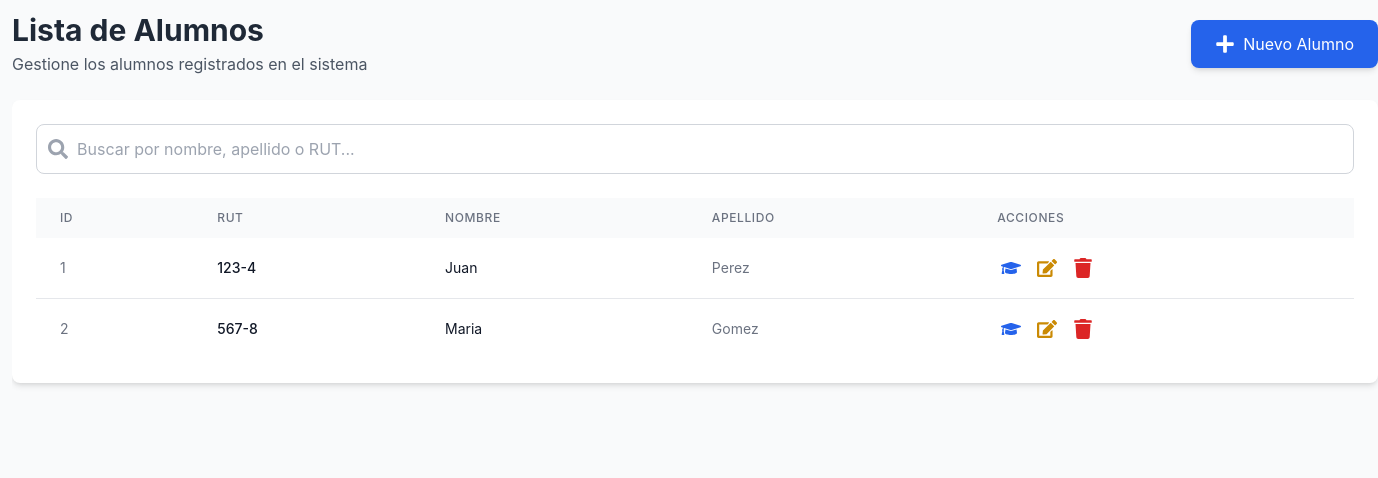
Scenario: AlumnoList › debe mostrar error si falla la eliminación
Expected: the text "Juan" is shown, 421,238 -> 688,298
Step 1. Click the button titled "Eliminar" in the row of "123-4" → (1083, 268), box 1069,254 -> 1097,282
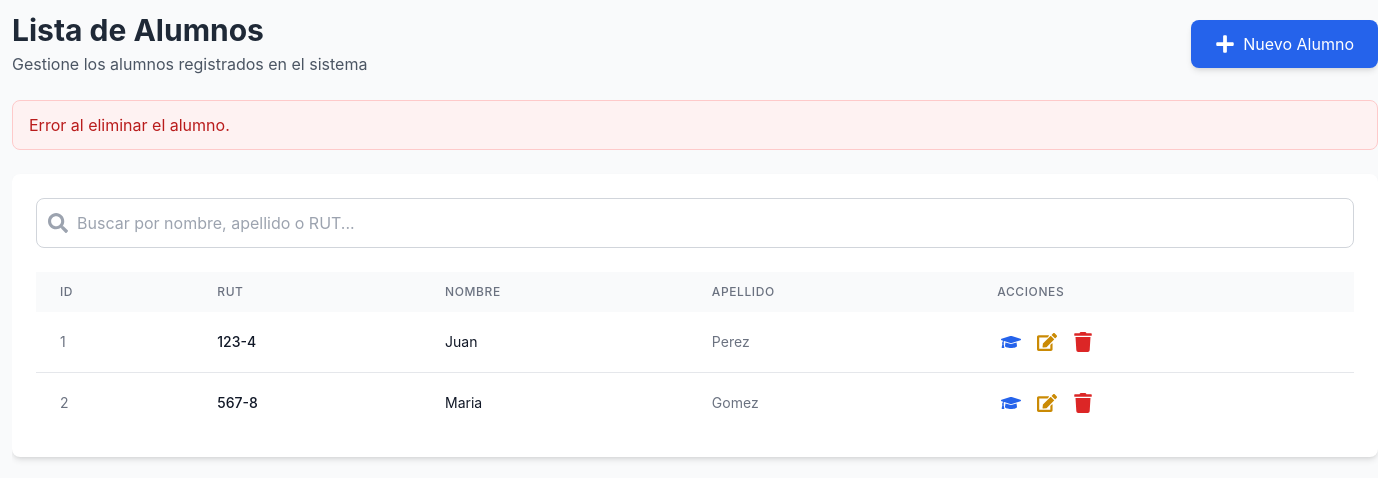
Now the text "Error al eliminar el alumno." is shown, box 12,100 -> 1377,150
